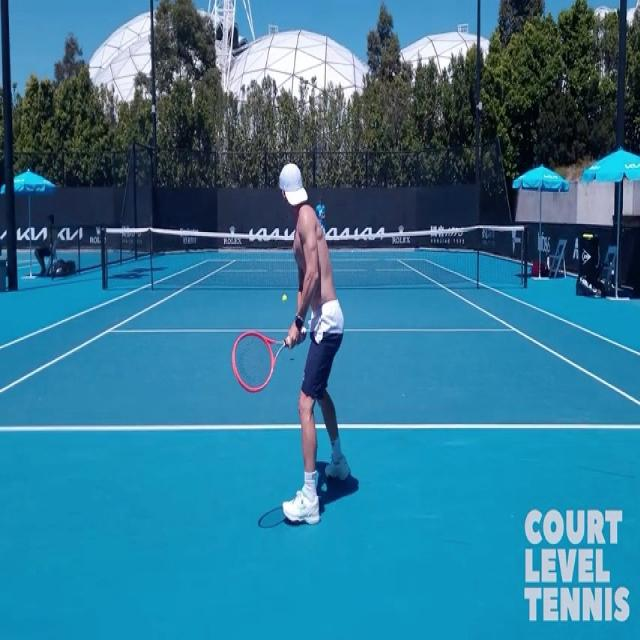backhand-ready: (234, 167, 345, 541)
